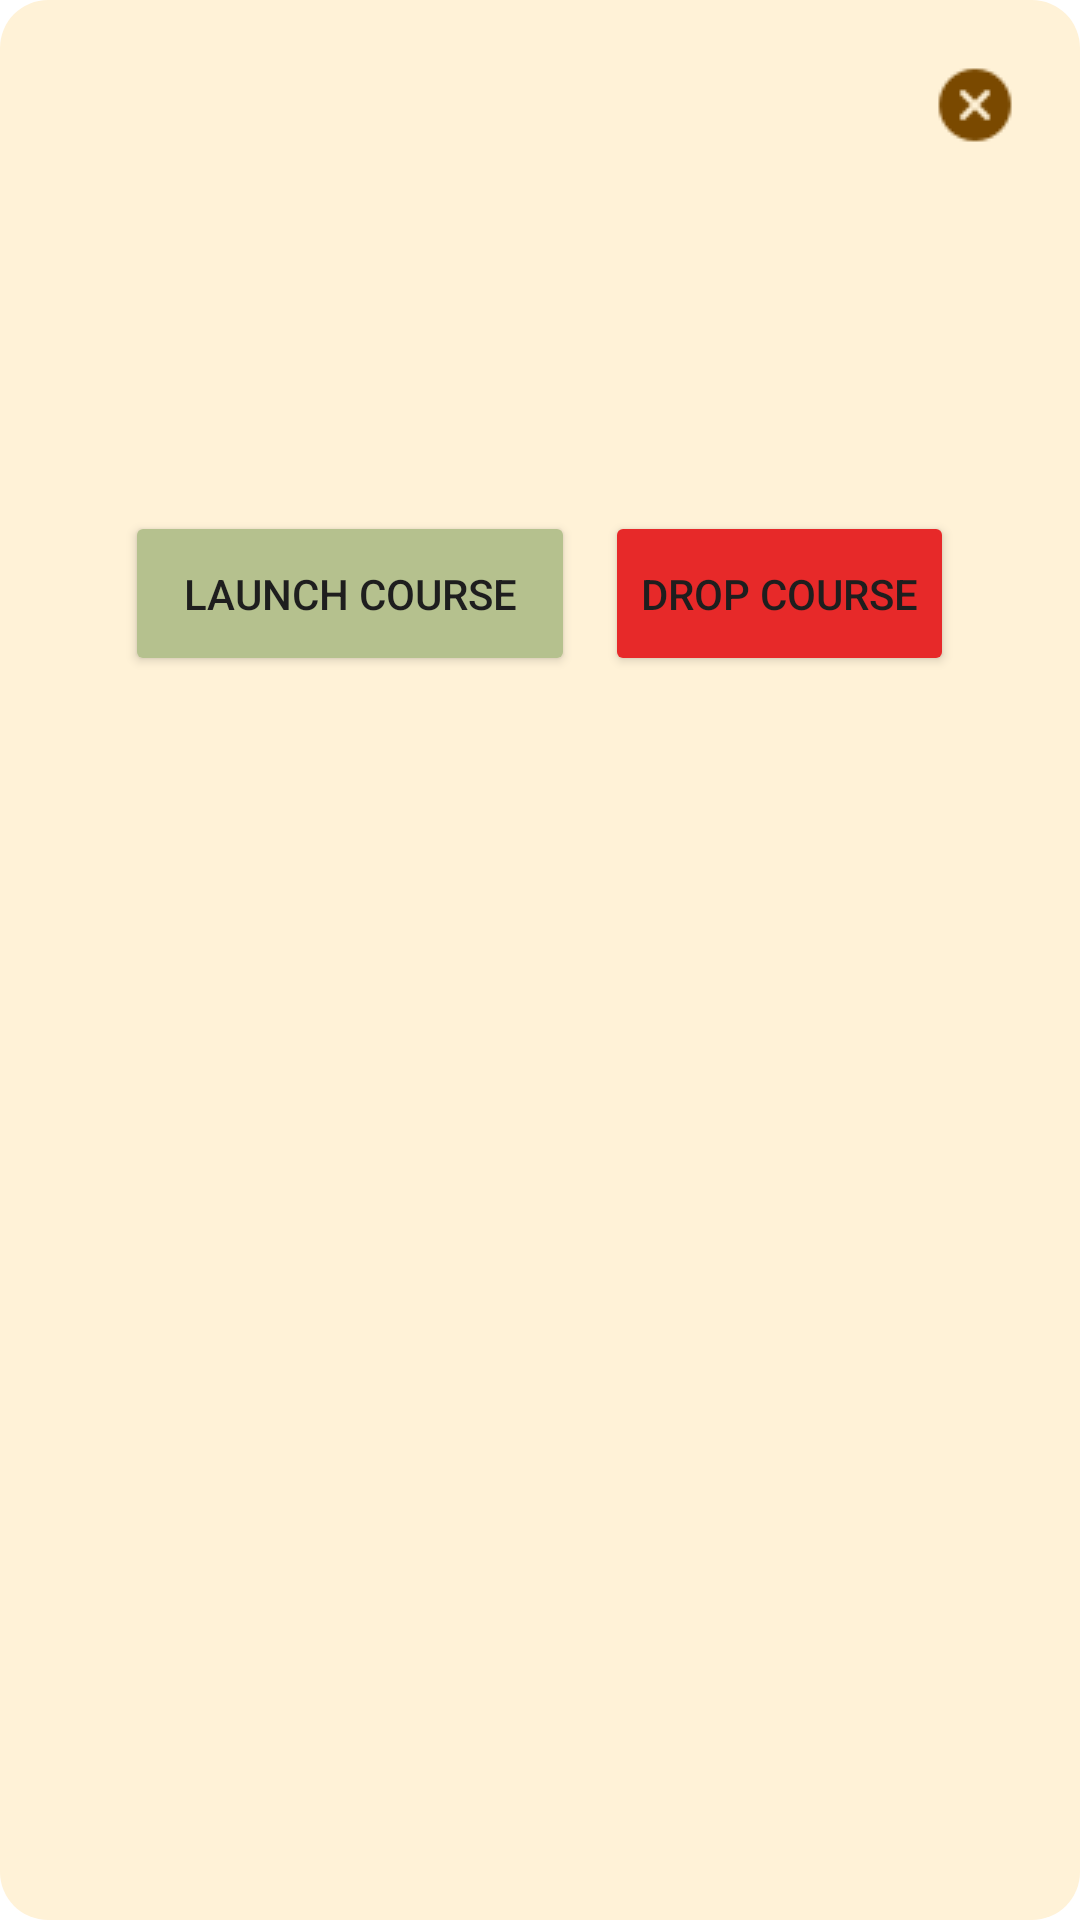

Icon bounding boxes for this 1080w x 1920h phone screenshot, format (x1, y1, x2, y2):
cinclose: (938, 68, 1012, 142)
